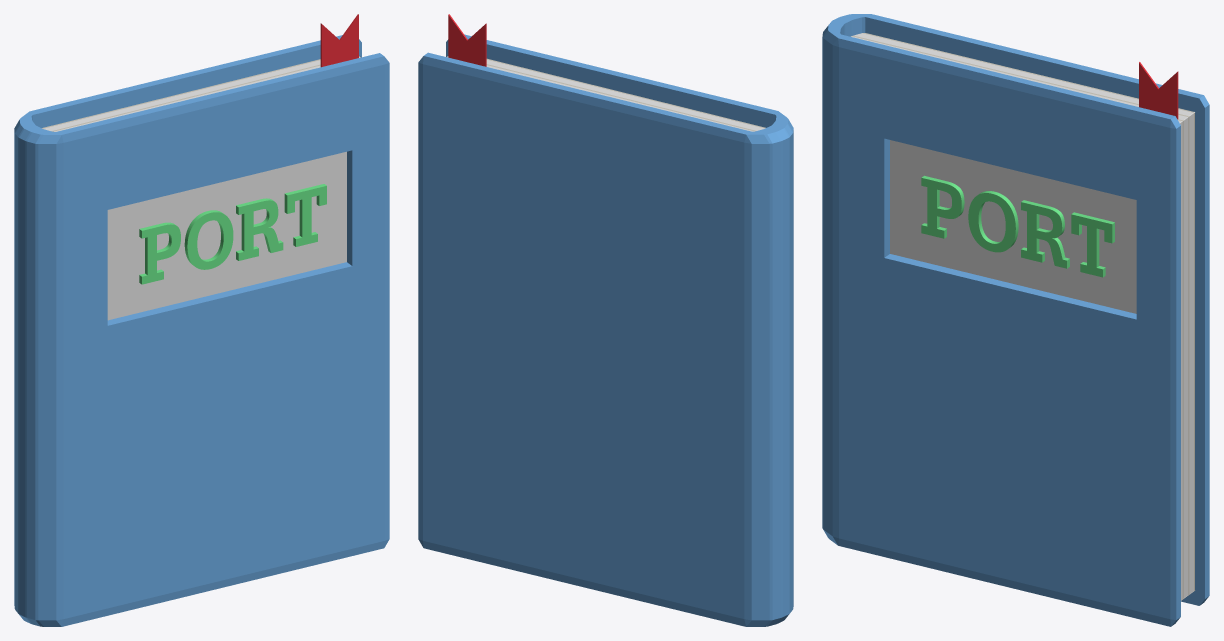
Rendered from port.fbx.
3 views of the same model, side by side, from view 1: azimuth 30°, elevation 25°; view 2: azimuth 150°, elevation 25°; view 3: azimuth 330°, elevation 25° (orthographic). The views are drawn at different scales.
Visible parts, largest first — view 1: Cube; view 2: Cube; view 3: Cube.
Boxes of the visible parts, x1,y1,x2,y2 form: Cube: (14, 14, 389, 626); Cube: (418, 14, 793, 626); Cube: (822, 14, 1209, 626).
Size of the model in its own units: 229 by 324 by 37.21.
